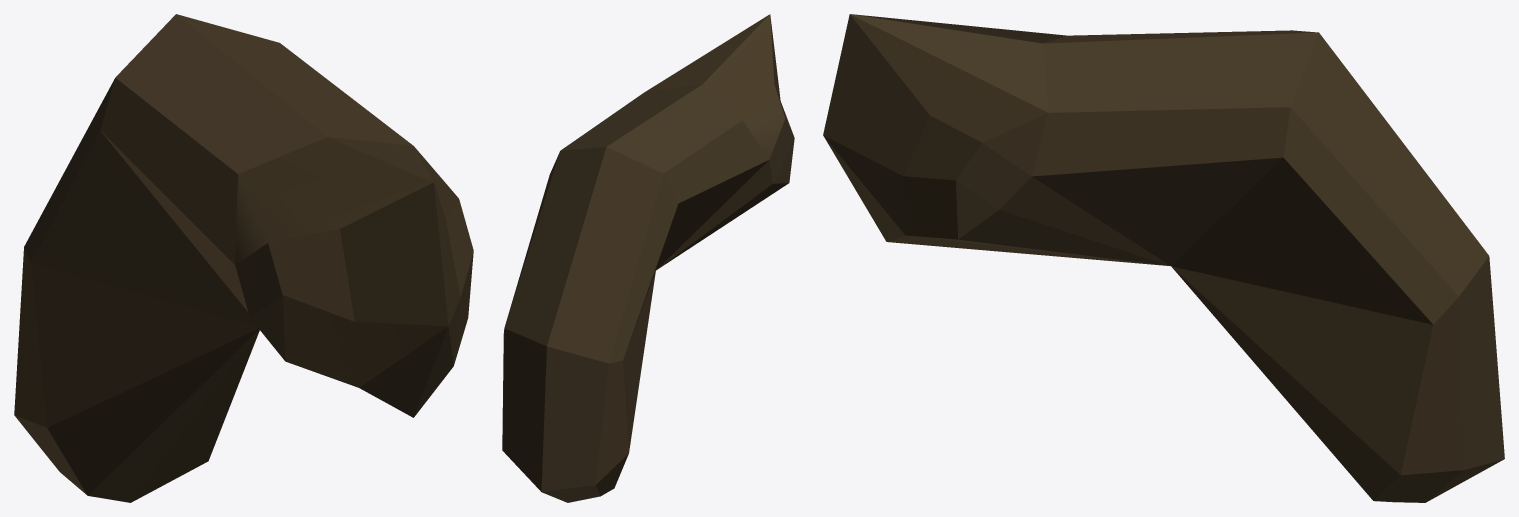
File: Chr_Hair_17_Static.fbx
3 renders of one model, left to right at view 1: azimuth 30°, elevation 25°; view 2: azimuth 150°, elevation 25°; view 3: azimuth 270°, elevation 25°, orthographic. The views are drawn at different scales.
Parts seen in each view (by area): view 1: Chr_Hair_17_Static; view 2: Chr_Hair_17_Static; view 3: Chr_Hair_17_Static.
Boxes of the visible parts, x1,y1,x2,y2 form: Chr_Hair_17_Static: [14, 14, 473, 502]; Chr_Hair_17_Static: [502, 14, 794, 502]; Chr_Hair_17_Static: [823, 14, 1504, 502].
Bounding box in the file's own units: 0.0942 × 0.2336 × 0.2945.
